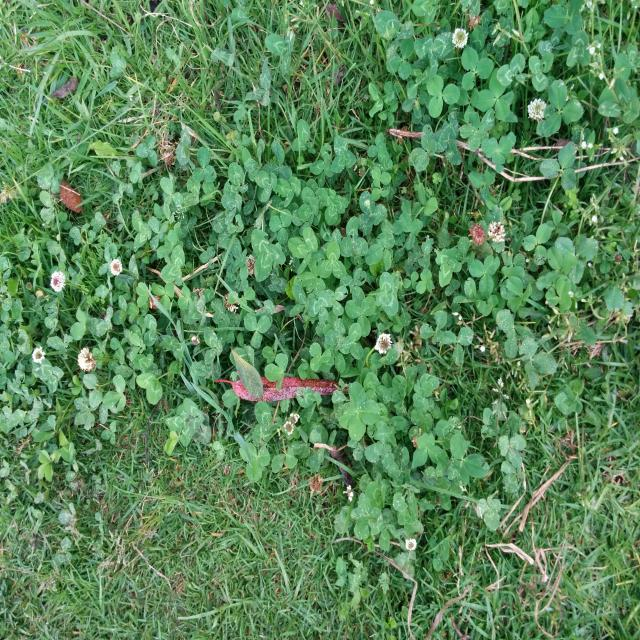Four Leaf Clover: (337, 381, 380, 441)
